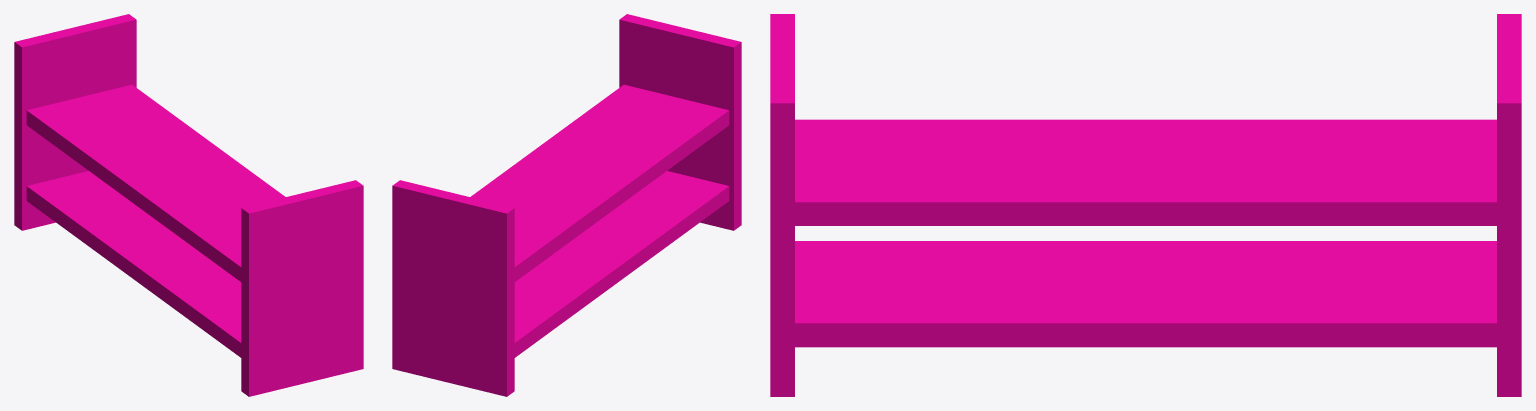
File: shoe_rack.fbx
The picture shows the model from 3 angles, left to right: view 1: azimuth 30°, elevation 25°; view 2: azimuth 150°, elevation 25°; view 3: azimuth 270°, elevation 25°; orthographic projection. The views are drawn at different scales.
Parts seen in each view (by area): view 1: pCube25; view 2: pCube25; view 3: pCube25.
Part boxes in pixels (bbox=[...]): pCube25: bbox=[14, 14, 363, 396]; pCube25: bbox=[392, 14, 741, 396]; pCube25: bbox=[770, 14, 1521, 396].
Size of the model in its own units: 1 by 1.53 by 3.55.
